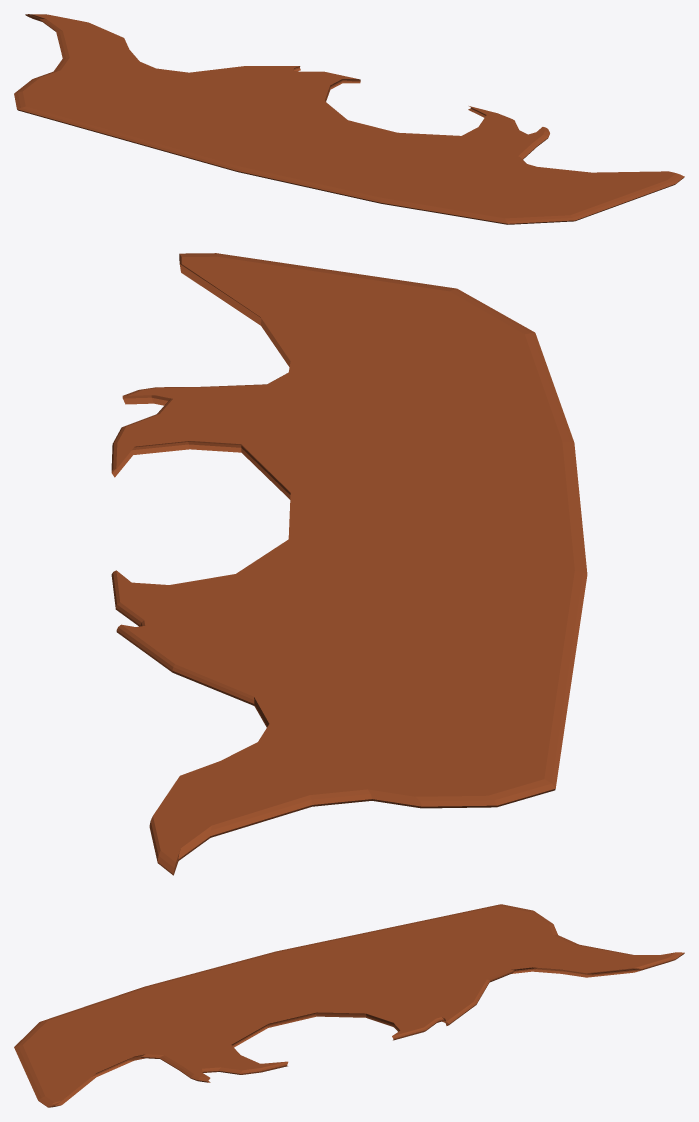
Rendered from leather.fbx.
3 renders of one model, top to bottom at view 1: azimuth 30°, elevation 25°; view 2: azimuth 150°, elevation 25°; view 3: azimuth 270°, elevation 25°, orthographic. The views are drawn at different scales.
Visible parts, largest first — view 1: leather; view 2: leather; view 3: leather.
Part boxes in pixels (x1=…): leather: x1=14, y1=14, x2=684, y2=224; leather: x1=111, y1=253, x2=587, y2=875; leather: x1=14, y1=904, x2=684, y2=1107.
Bounding box in the file's own units: 189 × 1.85 × 264.
